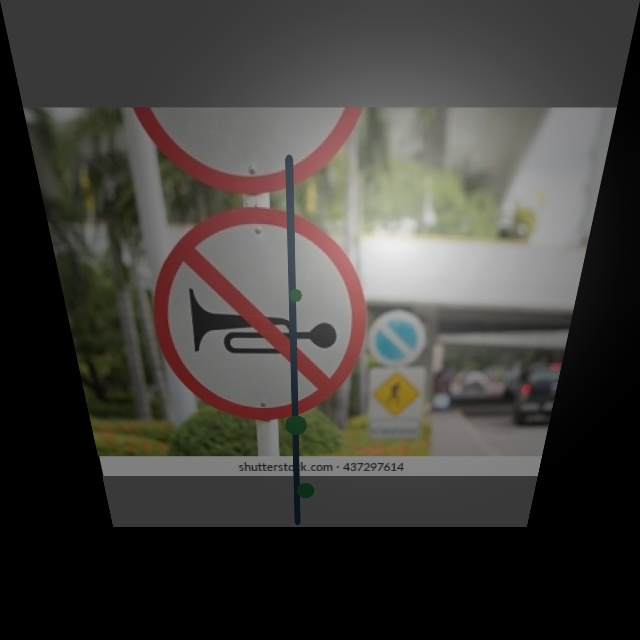Horn_Prohibited: (137, 209, 371, 417)
